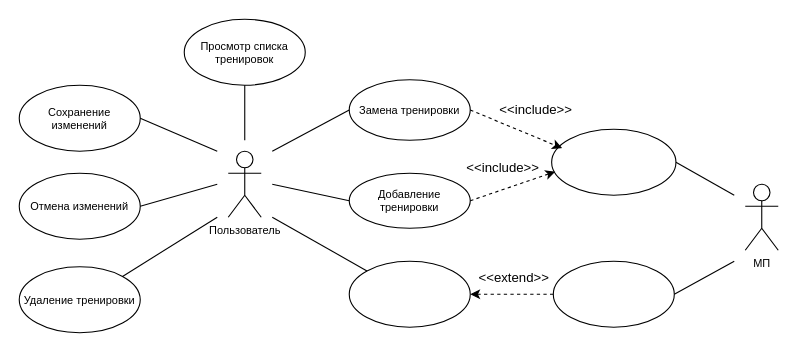
Some shapes in this 798 by 352 pixel diagram are drawn without their labels. The shapes that lost their labels are listed below. From the top down, each one's box as (x1, y1, x2, y2) in pixels, then its label:
(551, 128, 676, 195): Отображение наиболее подходящих тренировок
(348, 260, 470, 327): Изменение порядка тренировок
(552, 260, 674, 327): Синхронизация с календарём
